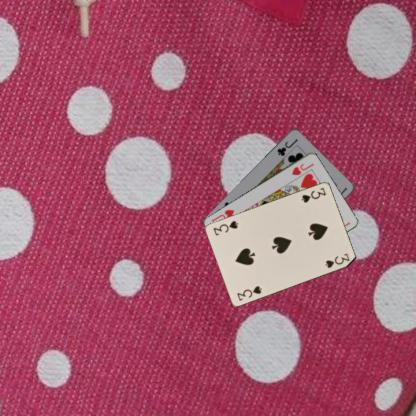3s: (234, 283, 263, 302), (299, 185, 327, 204)
Jc: (274, 136, 299, 157)
Jh: (289, 160, 315, 176)
